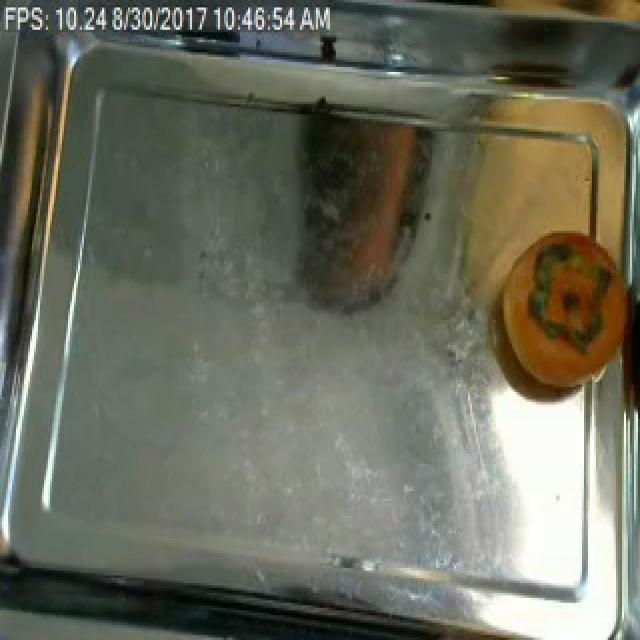Fruit: (444, 119, 600, 332), (498, 233, 610, 345)
